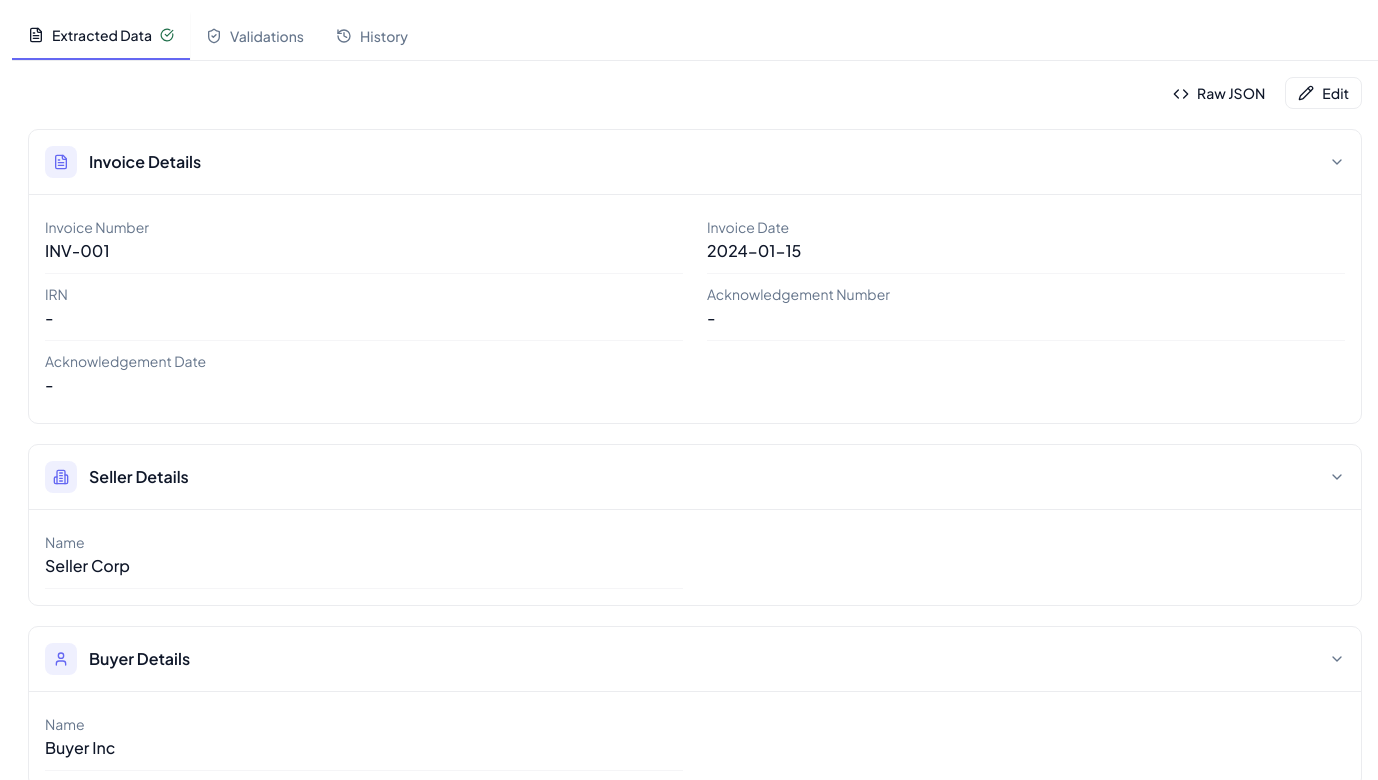
DocumentTabs › edit mode toolbar › exits edit mode when Cancel is clicked with no changes
The image size is (1378, 780).
Click the button "Edit": x=1324, y=93 [1285, 77, 1362, 109]
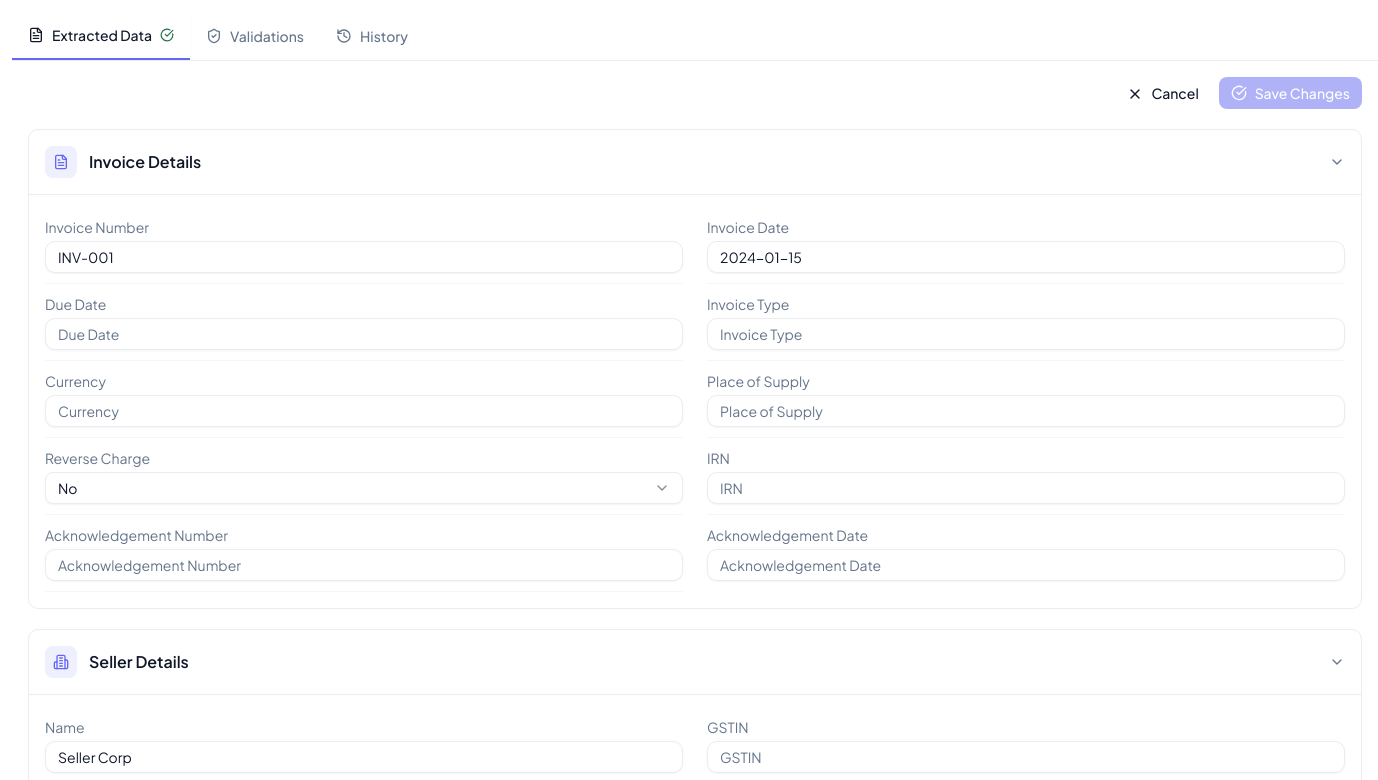
Click the button "Cancel": x=1163, y=93 [1115, 77, 1211, 109]
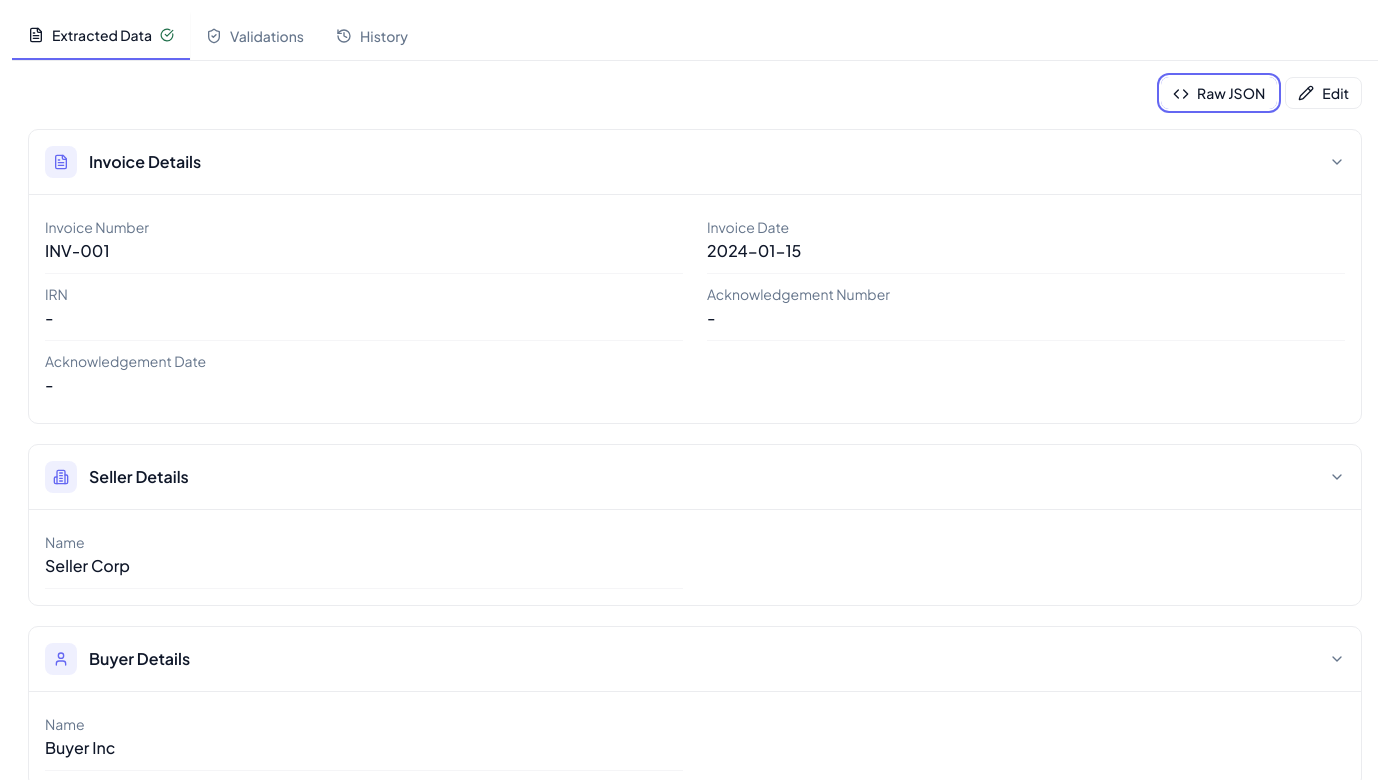
Check: the button "Edit" is shown, box [1285, 77, 1362, 109]
